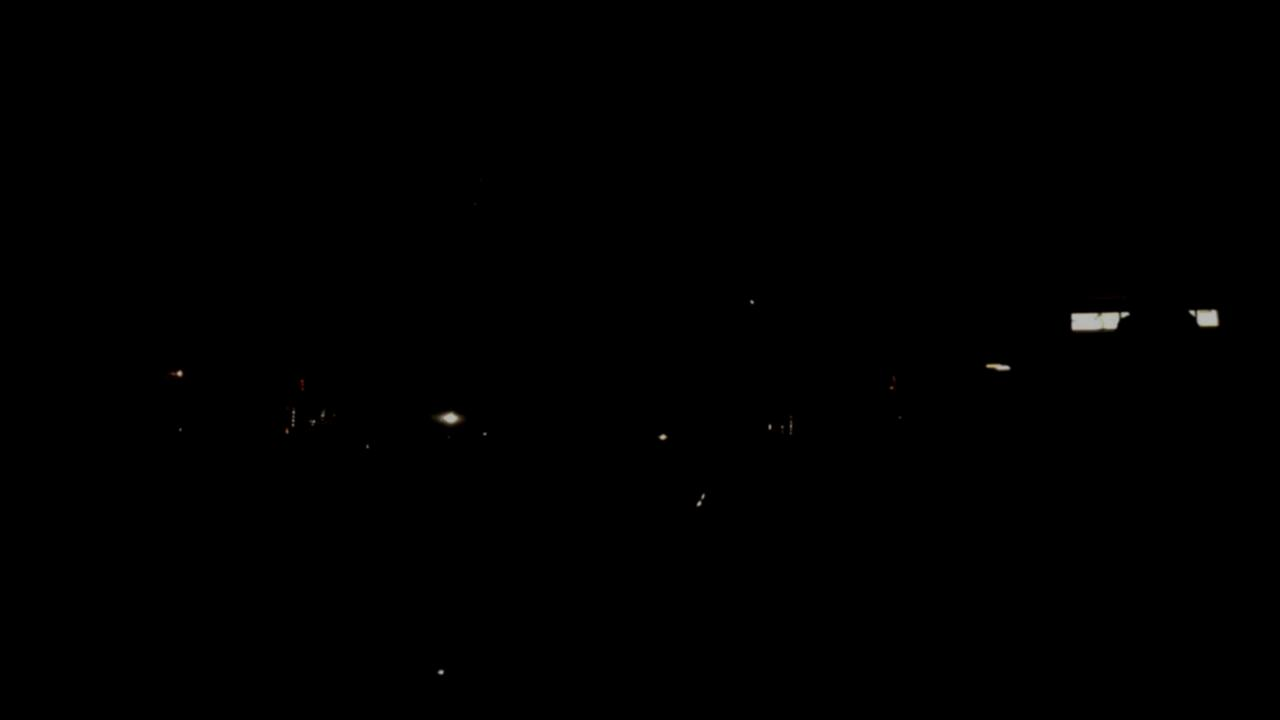GMC: (480, 390, 622, 446)
